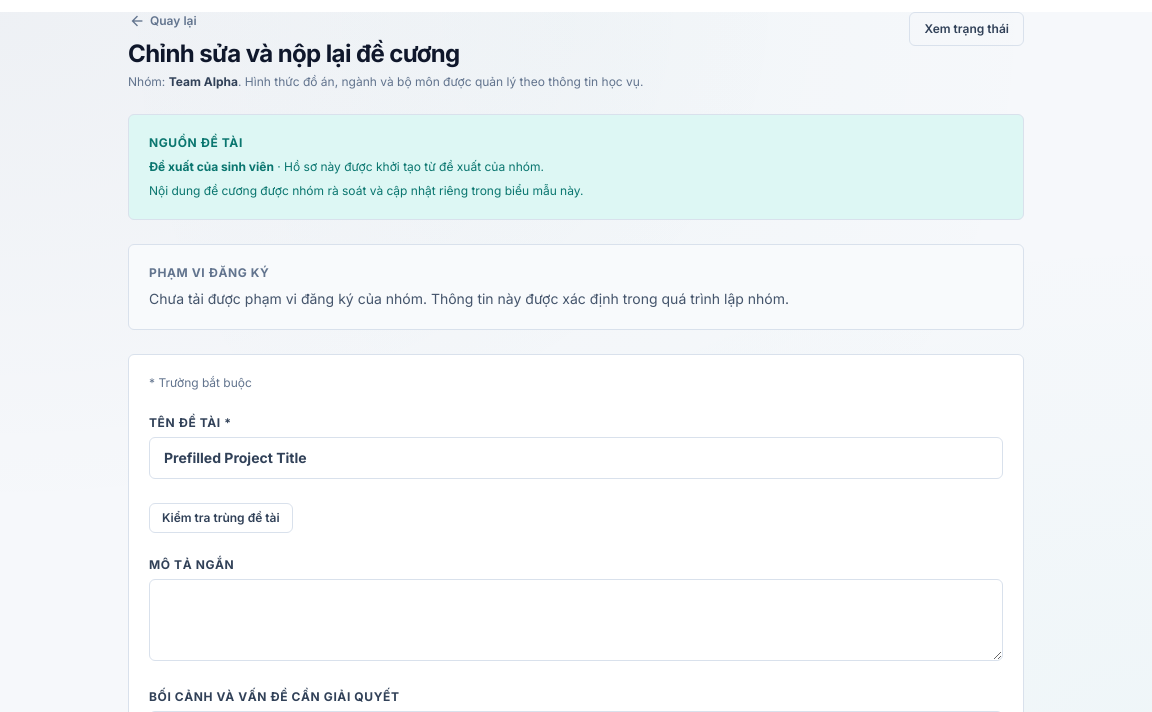
Test case: ProjectRegistrationFormPage › REVISION_REQUIRED + leader + edit_project_draft granted by backend › clears the previous similarity result once the title changes again
This screenshot has width=1152, height=712.
Step 1. Click the button "Kiểm tra trùng đề tài" → {"x": 221, "y": 518}, box [149,503,293,533]
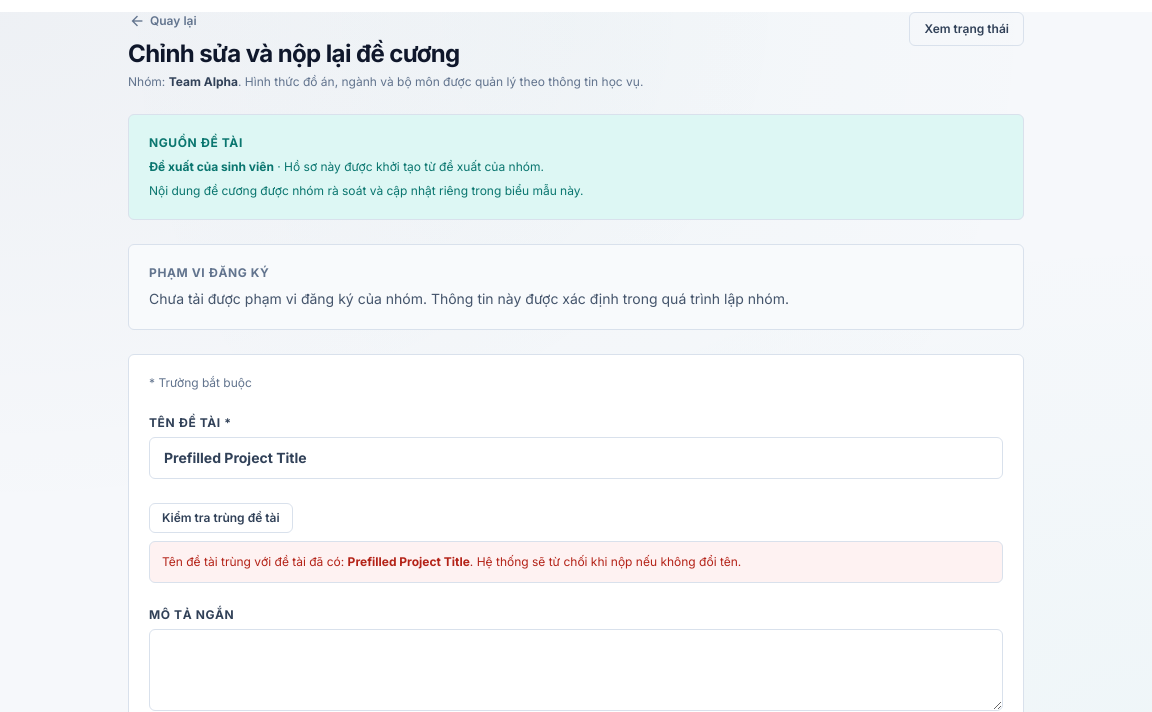
Expected: the text "Tên đề tài trùng với đề tài đã có" is shown, [162,554,348,569]
Step 2. Replace the text in the field showing "Prefilled Project Title" with "Tên khác" → {"x": 576, "y": 458}, box [149,437,1003,479]
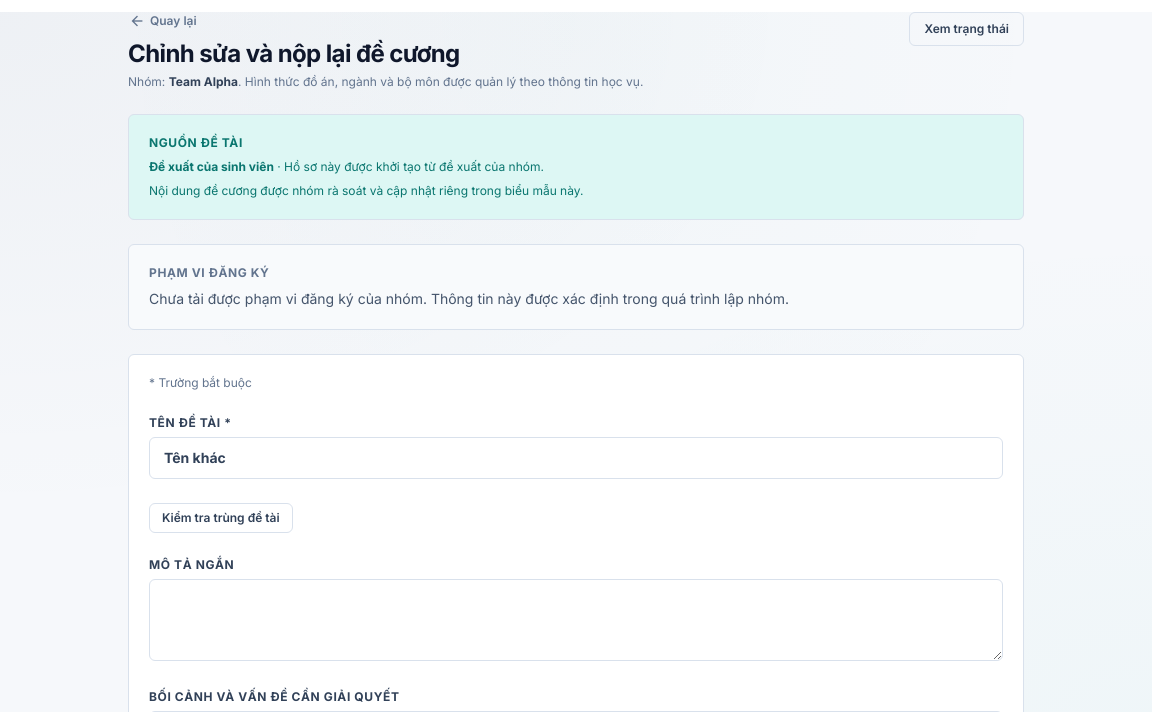
Expected: the text "Tên đề tài trùng với đề tài đã có" is gone
